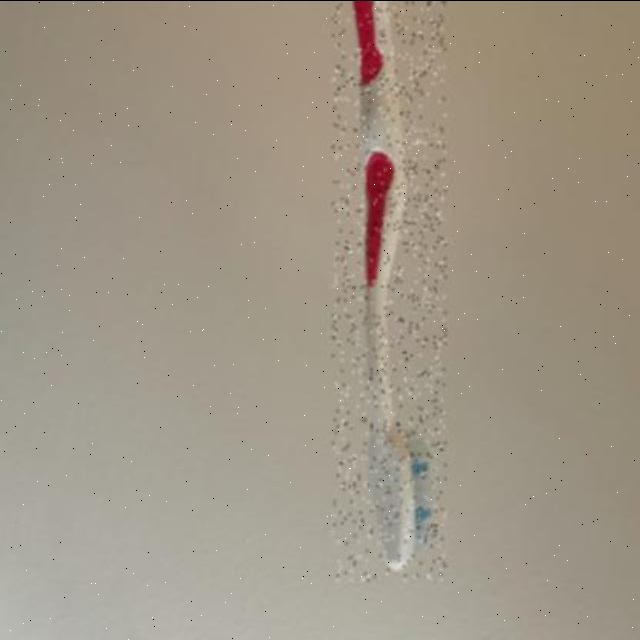toothbrush: (332, 0, 446, 580)
